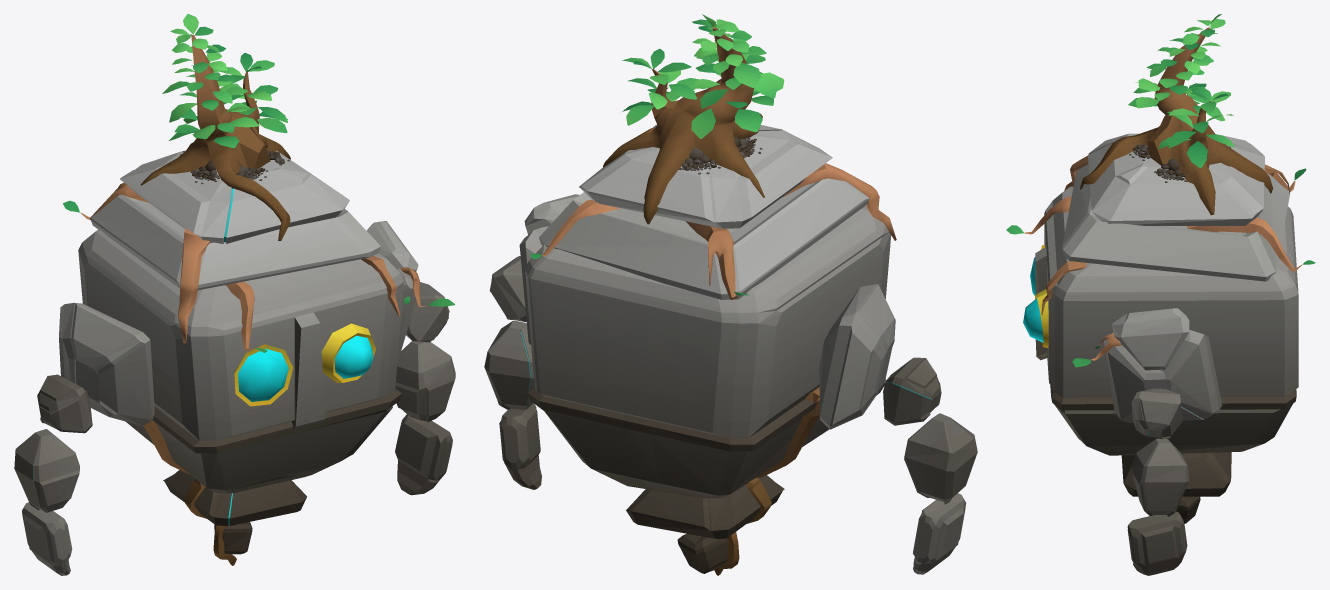
The model's file is Elemental_Floating_Golem.fbx.
3 renders of one model, left to right at view 1: azimuth 30°, elevation 25°; view 2: azimuth 150°, elevation 25°; view 3: azimuth 270°, elevation 25°, orthographic. The views are drawn at different scales.
Visible parts, largest first — view 1: Bot; view 2: Bot; view 3: Bot.
Part boxes in pixels (<box>): Bot: <box>14,14,455,575</box>; Bot: <box>484,14,977,575</box>; Bot: <box>1006,14,1315,575</box>.
Bounding box in the file's own units: 161 × 192 × 107.
